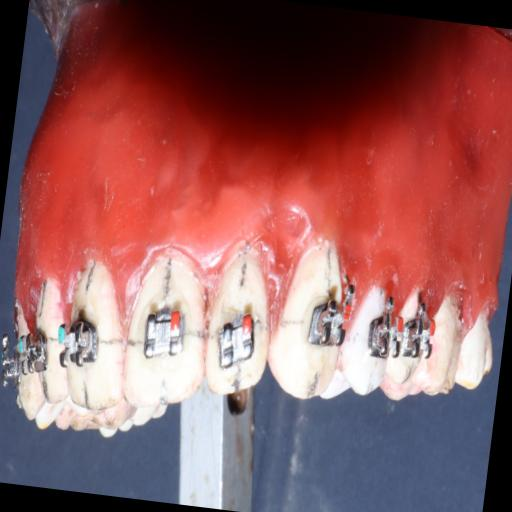incorrect_brace: (201, 242, 280, 404), (138, 295, 192, 369), (211, 304, 261, 376)
